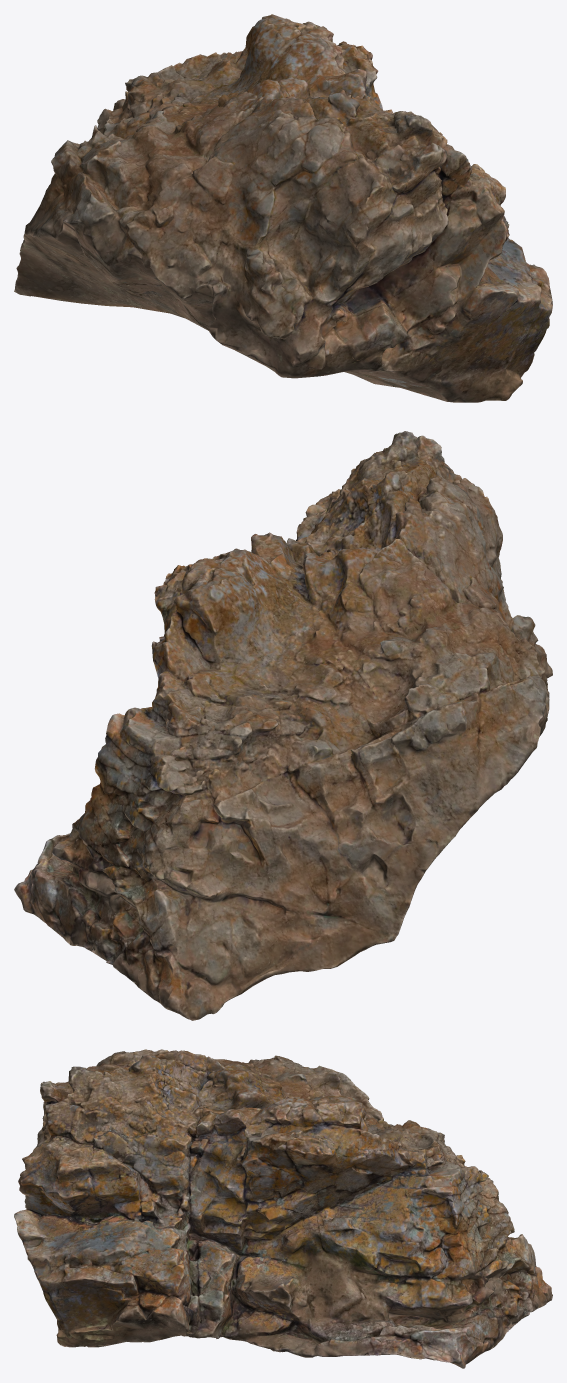
Rendered from boulder_01.glb.
The picture shows the model from 3 angles, top to bottom: view 1: azimuth 30°, elevation 25°; view 2: azimuth 150°, elevation 25°; view 3: azimuth 270°, elevation 25°; orthographic projection. The views are drawn at different scales.
Parts seen in each view (by area): view 1: boulder_01; view 2: boulder_01; view 3: boulder_01.
Part boxes in pixels (x1,y1,x2,y2): boulder_01: [14, 14, 552, 402]; boulder_01: [14, 431, 552, 1020]; boulder_01: [14, 1049, 552, 1368].
Size of the model in its own units: 1.27 by 1 by 1.83.
1 material, 1 textured.
